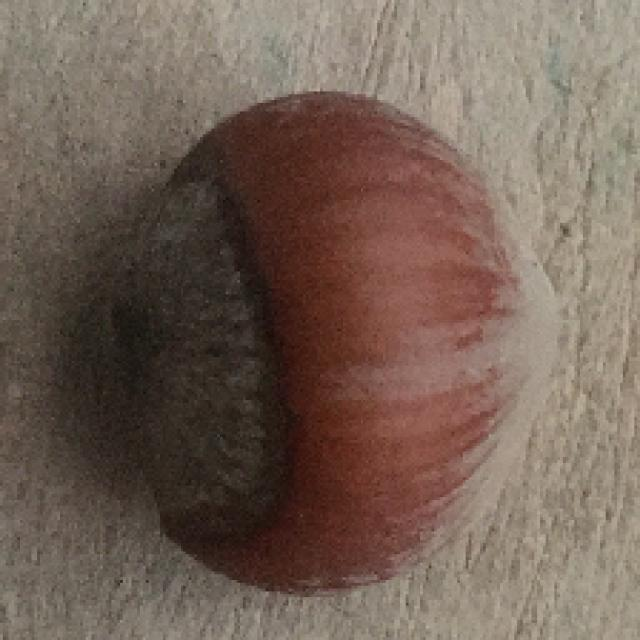qualityHazelnut: (128, 90, 553, 594)
